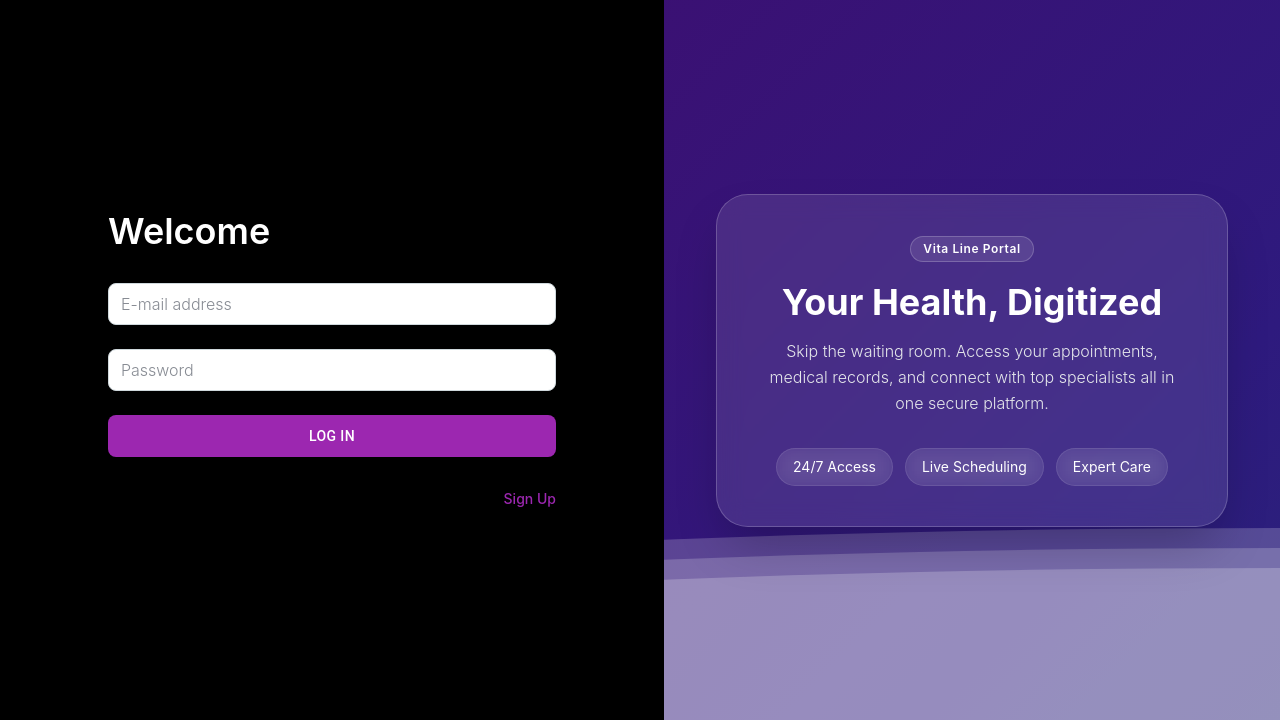
LoginPage › shows the backend message and stays on login when credentials are wrong
The width and height of the screenshot is (1280, 720).
In the field with placeholder "E-mail address": {"x": 332, "y": 304} [108,283,556,325], type "patient@test.com"
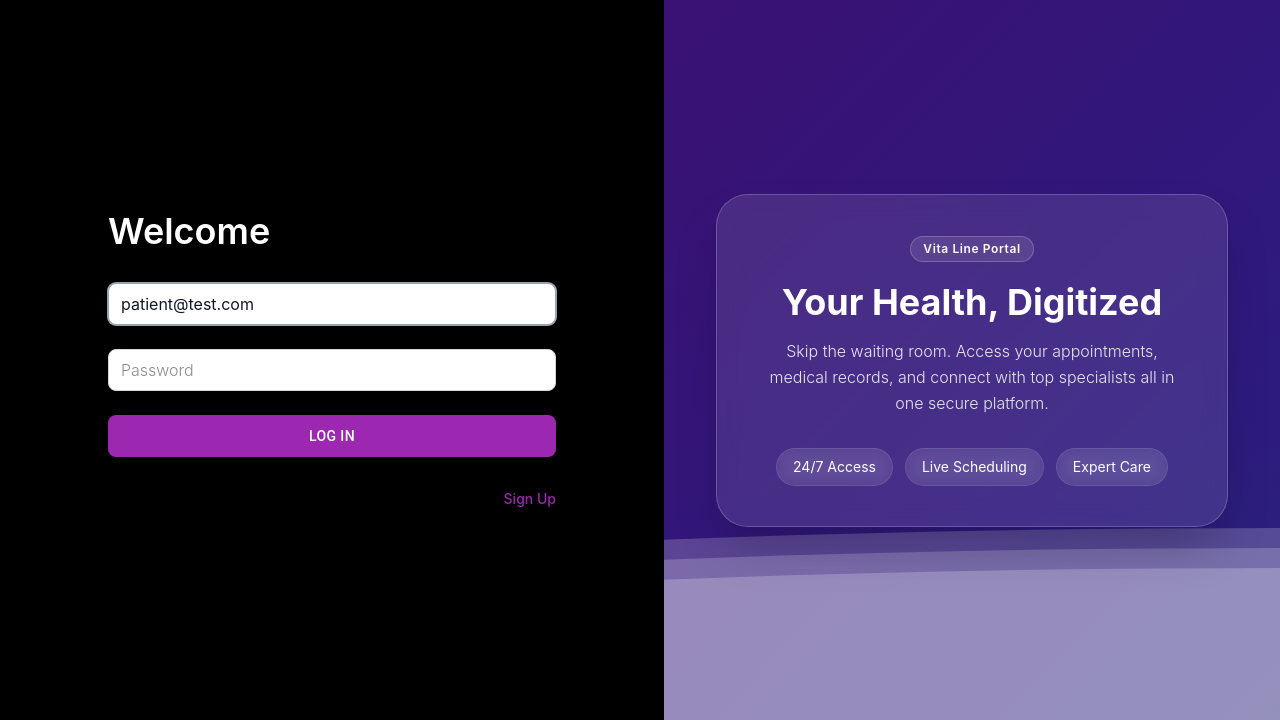
In the password field with placeholder "Password": {"x": 332, "y": 370} [108,349,556,391], type "Wrong123"
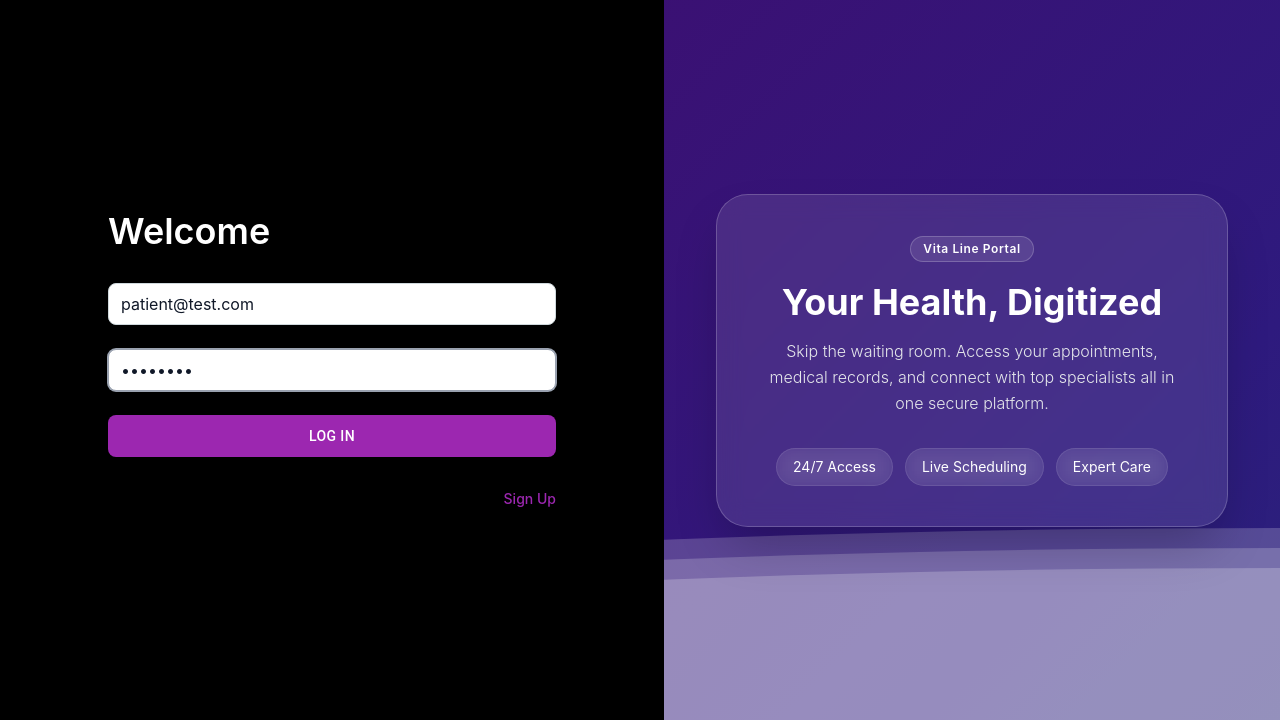
Click the button "Log In": {"x": 332, "y": 436} [108,415,556,457]
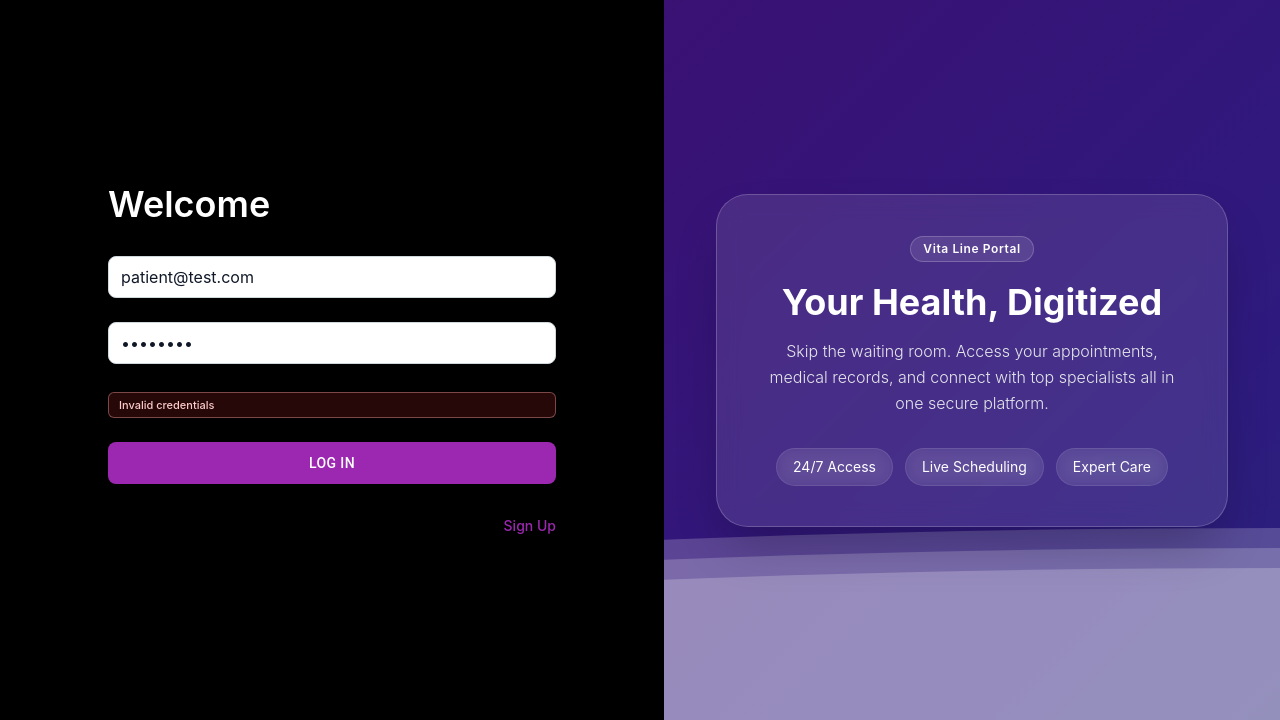
Expected: the heading "Welcome" is shown, [108,182,270,226]
Expected: the text "Invalid credentials" is shown, [108,392,556,418]
